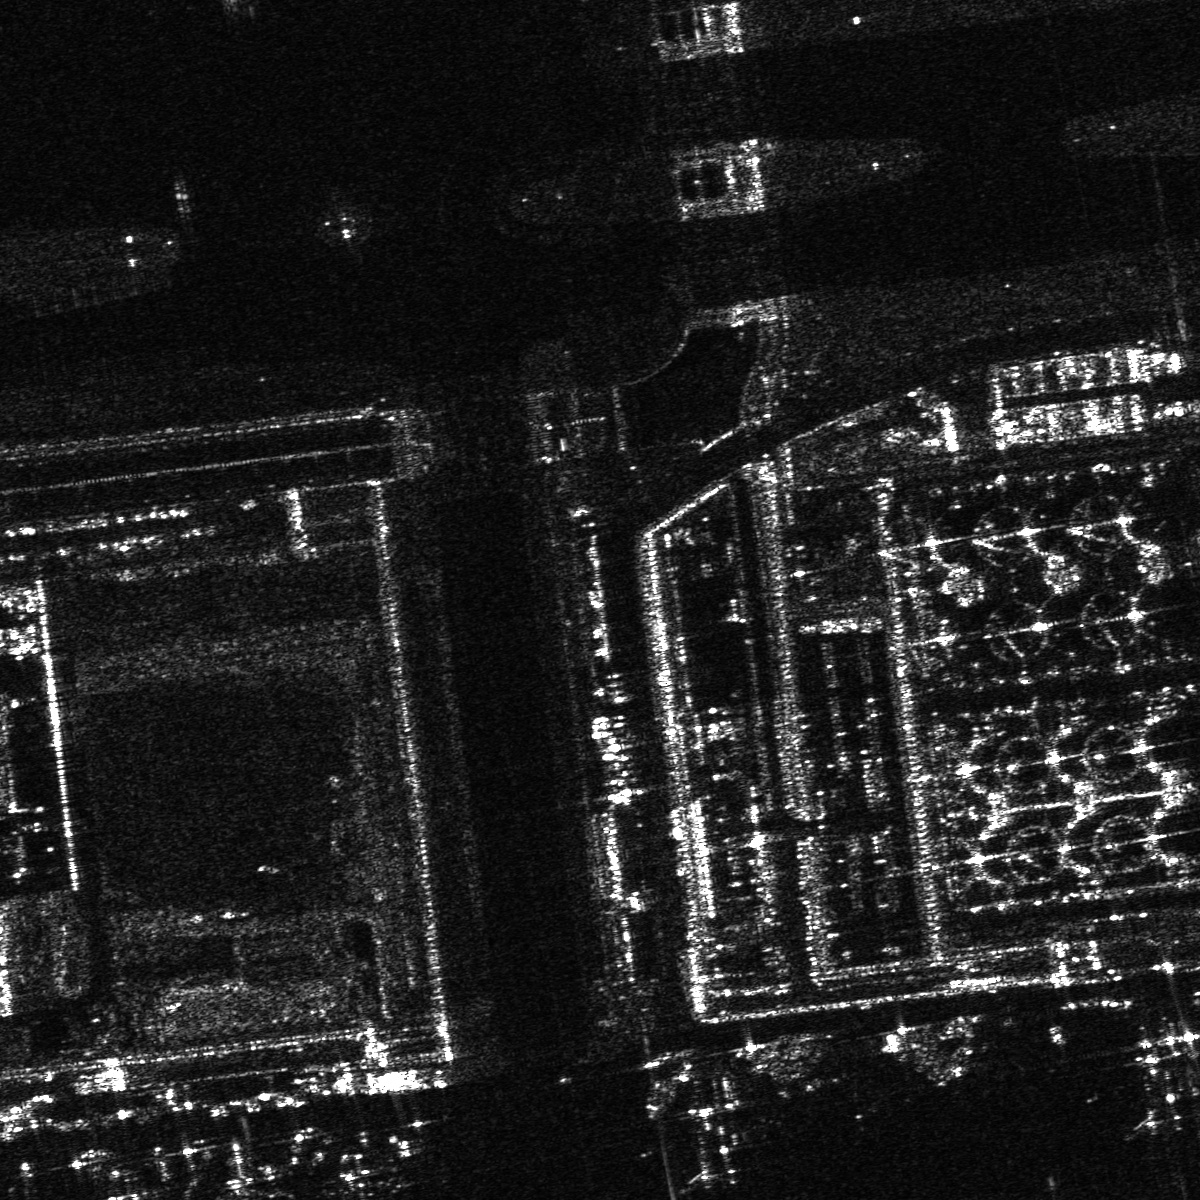A330: (319, 199, 368, 244)
Boeing787: (326, 1138, 391, 1199)
other: (638, 1096, 771, 1195), (1127, 1038, 1199, 1127)
